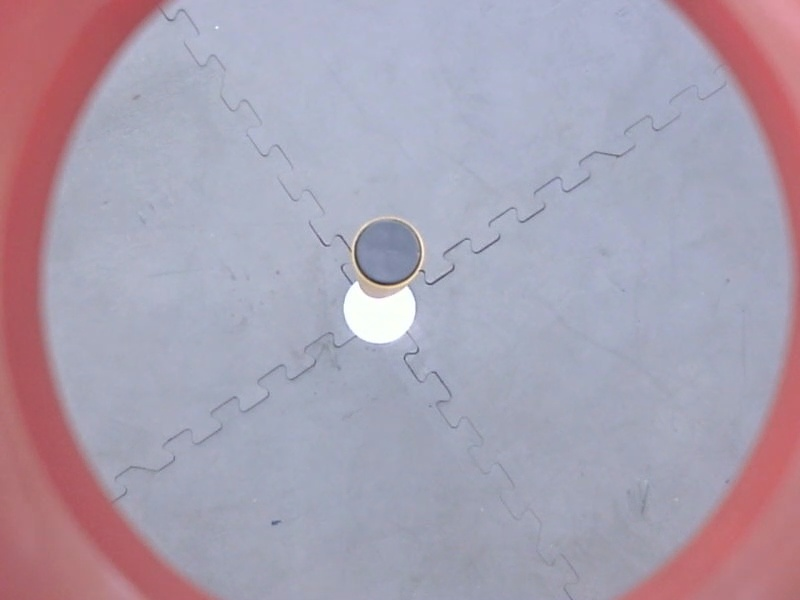tip: (347, 211, 429, 292)
